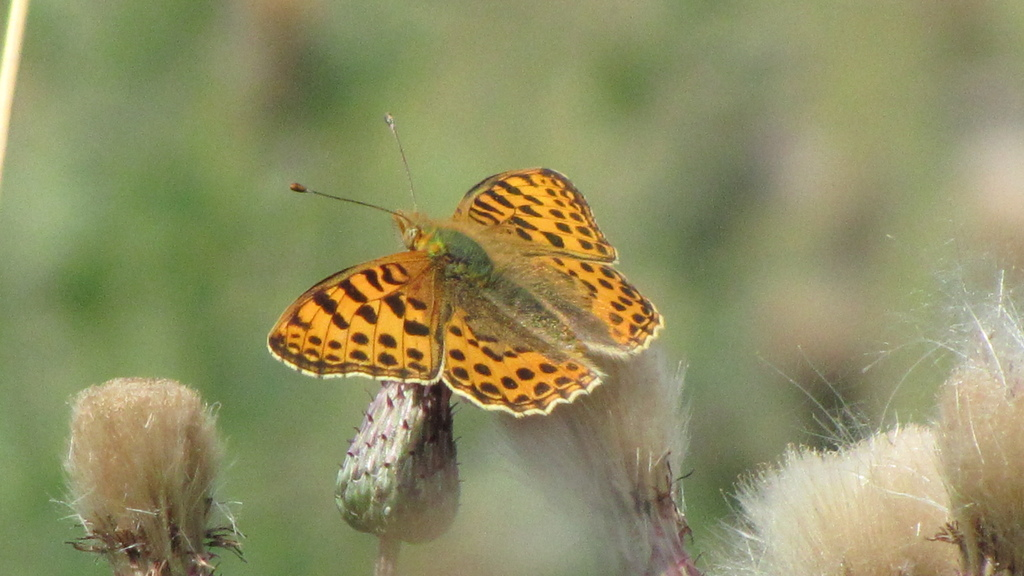Butterfly: (272, 125, 672, 444)
